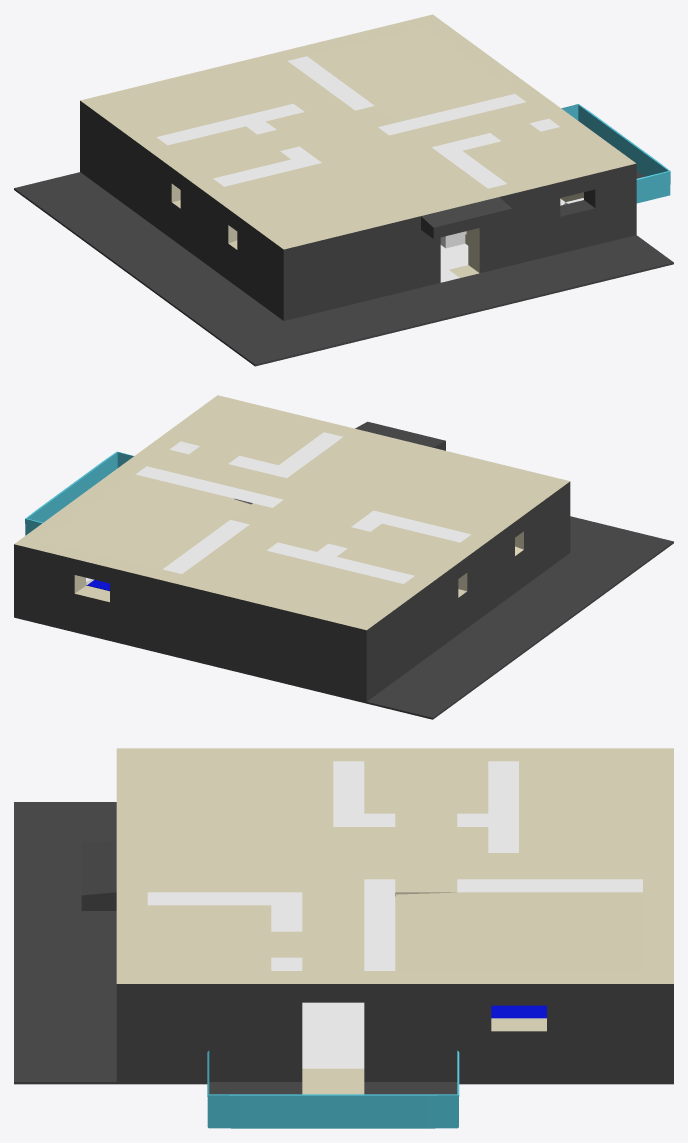
Rendered from ApartmentSingle.fbx.
3 renders of one model, top to bottom at view 1: azimuth 30°, elevation 25°; view 2: azimuth 150°, elevation 25°; view 3: azimuth 270°, elevation 25°, orthographic. The views are drawn at different scales.
Parts seen in each view (by area): view 1: ApartmentSingle; view 2: ApartmentSingle; view 3: ApartmentSingle.
Boxes of the visible parts, box(x1,y1,x2,y2) form: ApartmentSingle: box(14, 14, 673, 366); ApartmentSingle: box(14, 395, 673, 719); ApartmentSingle: box(14, 748, 673, 1128).
Size of the model in its own units: 2208 by 318 by 1894.
